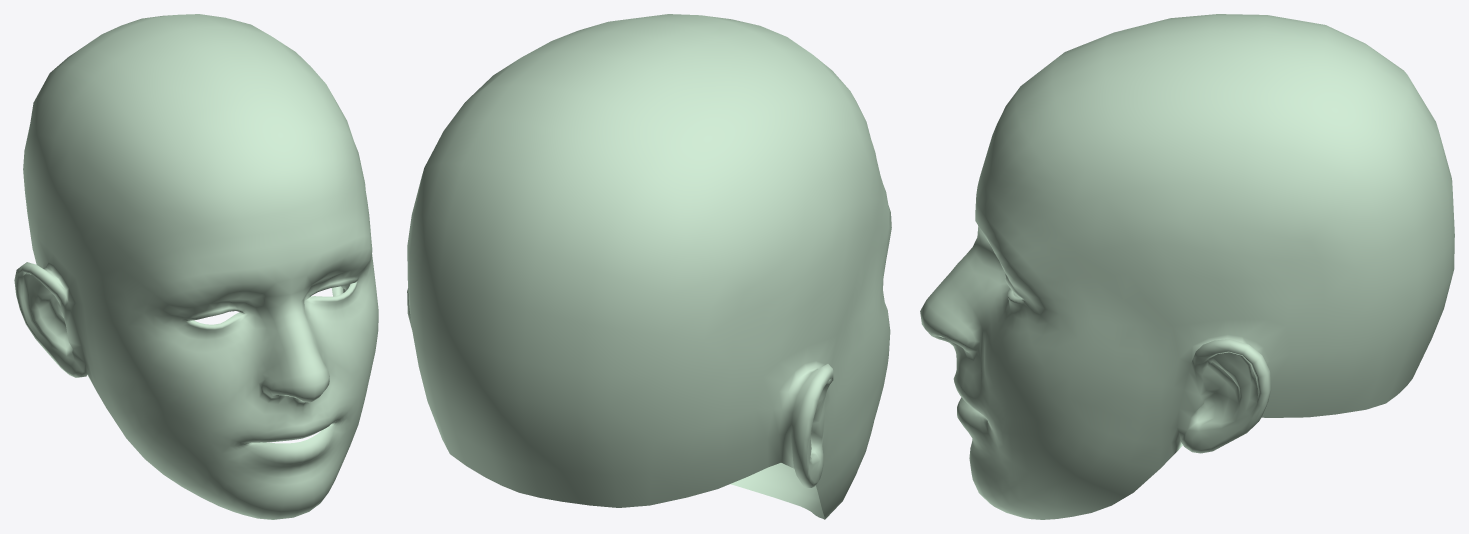
File: head_wired.glb
The picture shows the model from 3 angles, left to right: view 1: azimuth 30°, elevation 25°; view 2: azimuth 150°, elevation 25°; view 3: azimuth 270°, elevation 25°; orthographic projection. The views are drawn at different scales.
Parts seen in each view (by area): view 1: head; view 2: head; view 3: head.
Part boxes in pixels (x1=…): head: x1=14, y1=14, x2=378, y2=519; head: x1=407, y1=14, x2=891, y2=519; head: x1=920, y1=14, x2=1454, y2=519.
Size of the model in its own units: 3.01 by 3.67 by 3.74.
